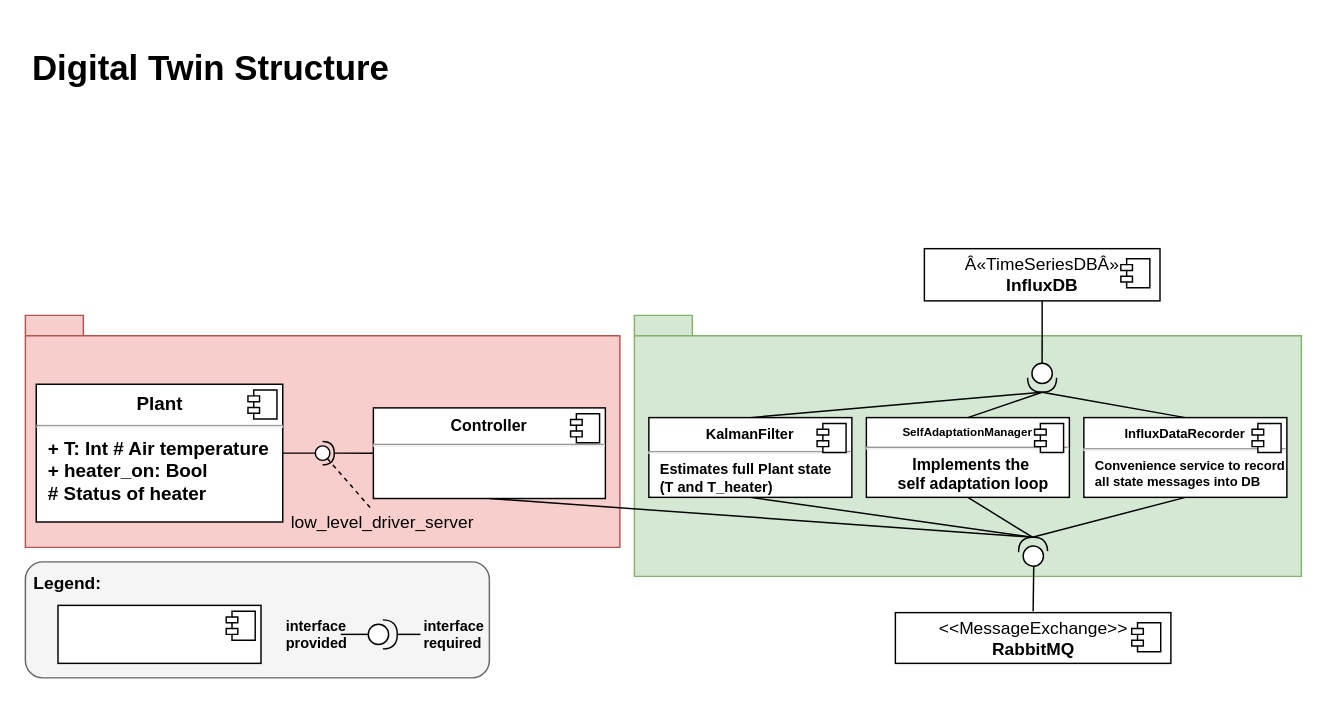
Some shapes in this 1327 by 703 pixel diagram are drawn without their labels. Here are the shapes that lost their labels. From the top down, the box of each, then its label:
(24, 314, 620, 547): (Mock) PhysicalTwin
(633, 314, 1301, 576): DigitalTwin
(57, 604, 261, 663): Component Main variables, or responsibility.
